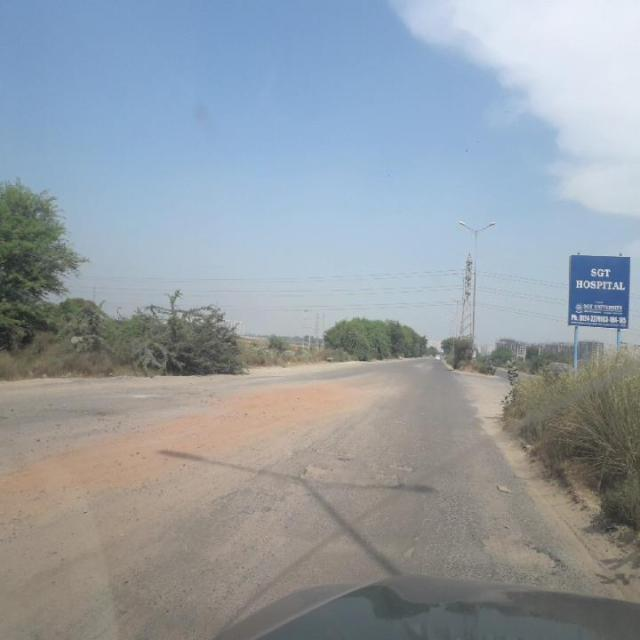Pothole: (500, 532, 569, 577)
Surface Erosion: (30, 364, 443, 602)
